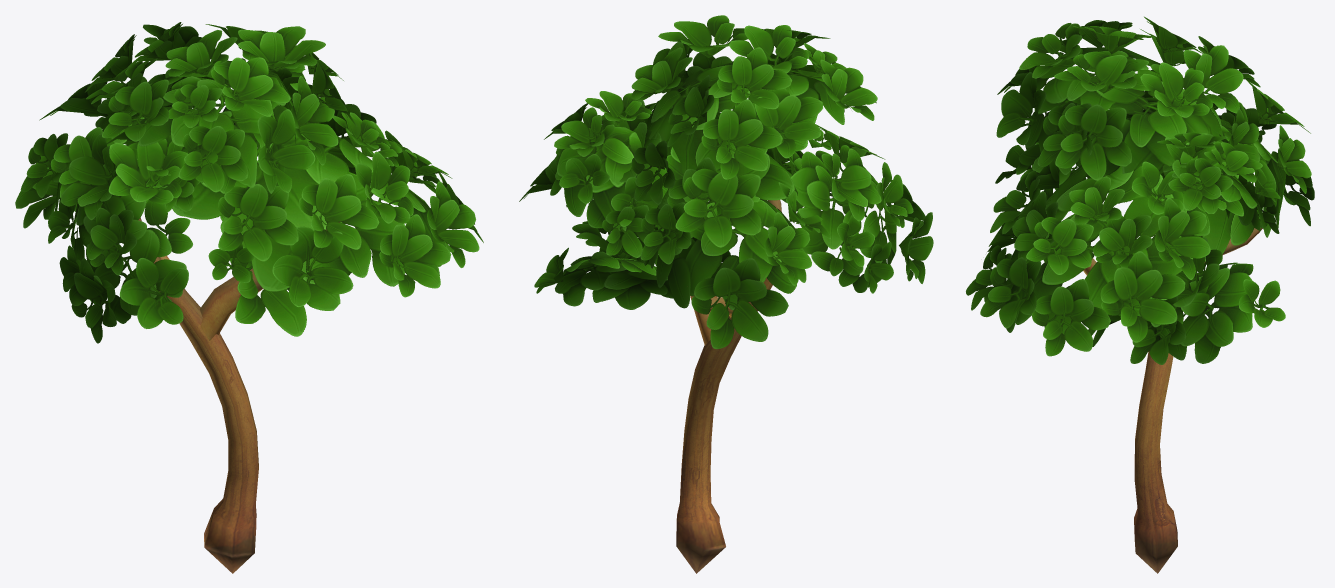
The model's file is SE_Bonsai_b.fbx.
The picture shows the model from 3 angles, left to right: view 1: azimuth 30°, elevation 25°; view 2: azimuth 150°, elevation 25°; view 3: azimuth 270°, elevation 25°; orthographic projection. The views are drawn at different scales.
Visible parts, largest first — view 1: SE_Bonsai_b; view 2: SE_Bonsai_b; view 3: SE_Bonsai_b.
Part boxes in pixels (x1,y1,x2,y2): SE_Bonsai_b: [15, 22, 483, 573]; SE_Bonsai_b: [519, 15, 933, 573]; SE_Bonsai_b: [966, 16, 1314, 573].
Bounding box in the file's own units: 5.36 × 7.4 × 4.5.
